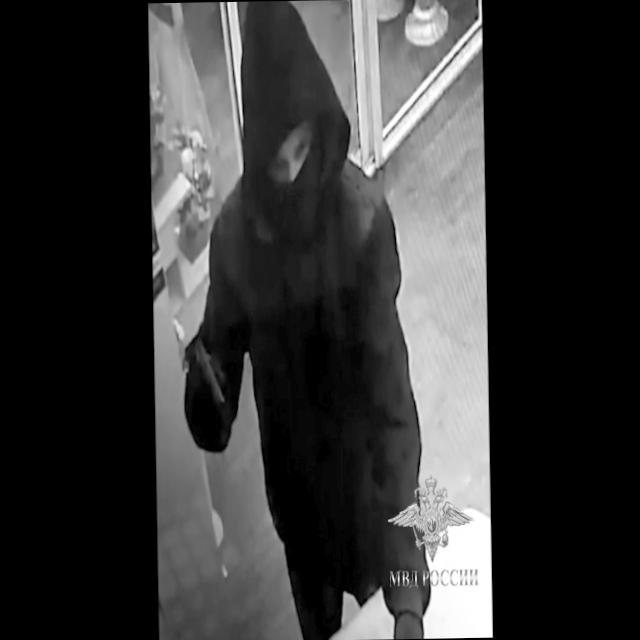gun: (194, 334, 229, 442)
person with a gun: (177, 4, 420, 640)
